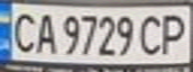2: (97, 11, 118, 57)
7: (78, 11, 100, 56)
9: (57, 10, 81, 56), (115, 11, 139, 57)
A: (30, 9, 57, 55)
C: (6, 9, 39, 54), (136, 11, 166, 56)
P: (157, 10, 190, 56)
